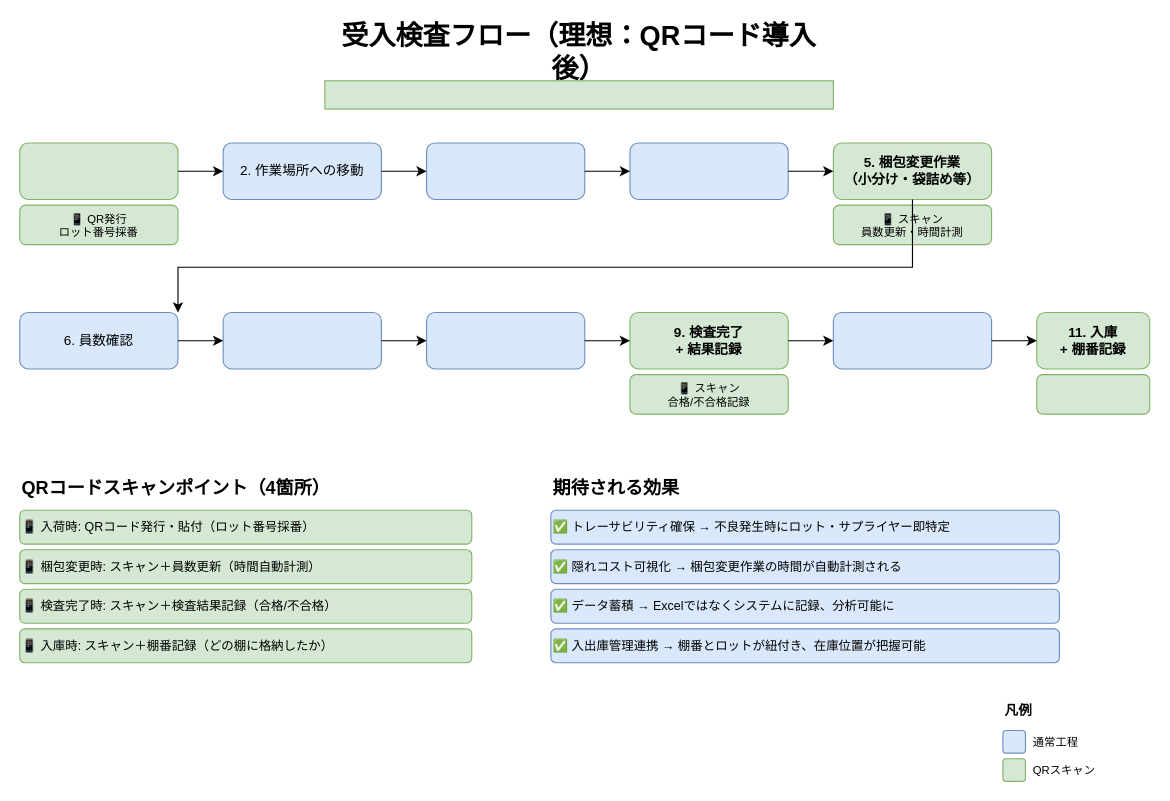
The diagram is 1170 pixels wide and 801 high, and some of its shapes have lost their labels. Here are the shapes that lost their labels. From the top down, the centre of each, then its label:
the point at 578,94: QRコードスキャンで時間計測・トレーサビリティを自動化
the point at 98,170: 1. 部品入荷 + QRコード発行
the point at 505,170: 3. 検査段取り （場所・人員確保）
the point at 708,170: 4. 開梱作業
the point at 301,340: 7. 外観検査
the point at 505,340: 8. 測定 （ノギス等）
the point at 912,340: 10. 入庫のための 梱包作業
the point at 1093,393: 📱 スキャン 棚番紐付け
